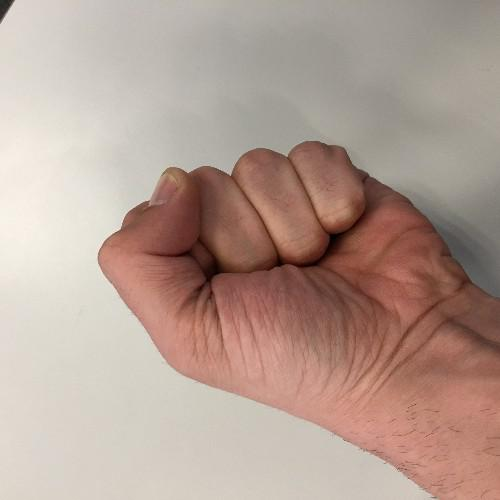rock: (88, 133, 474, 414)
